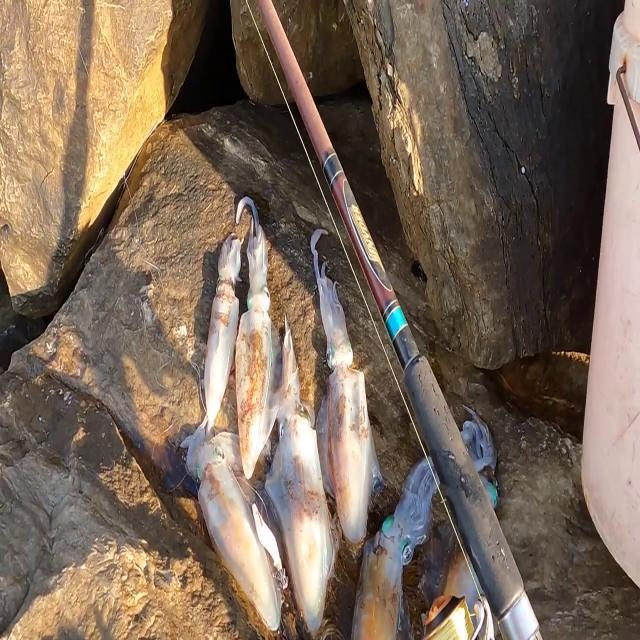squid: (264, 328, 336, 632), (316, 271, 386, 555), (188, 433, 284, 629), (351, 458, 439, 640), (234, 215, 275, 480), (200, 234, 242, 438)
